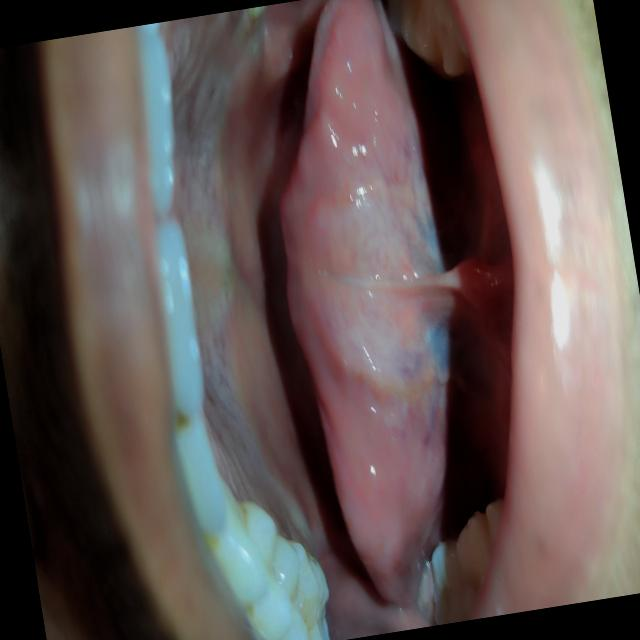No Cancer: (301, 127, 448, 422)
